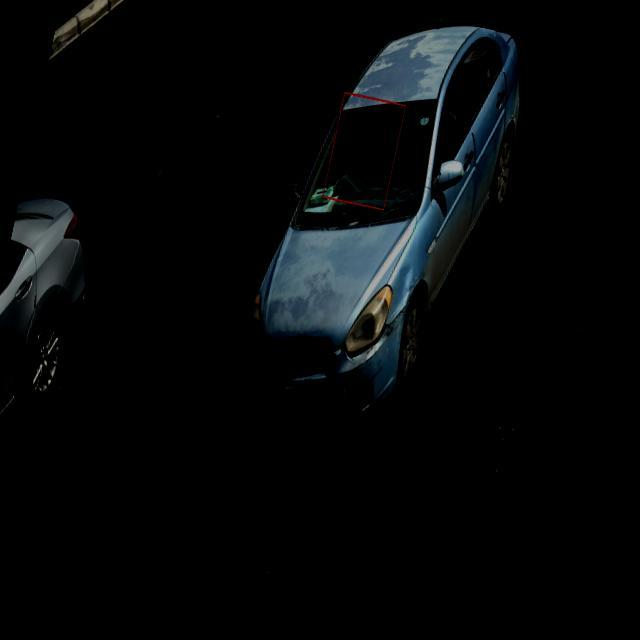windshield: (282, 86, 430, 230)
